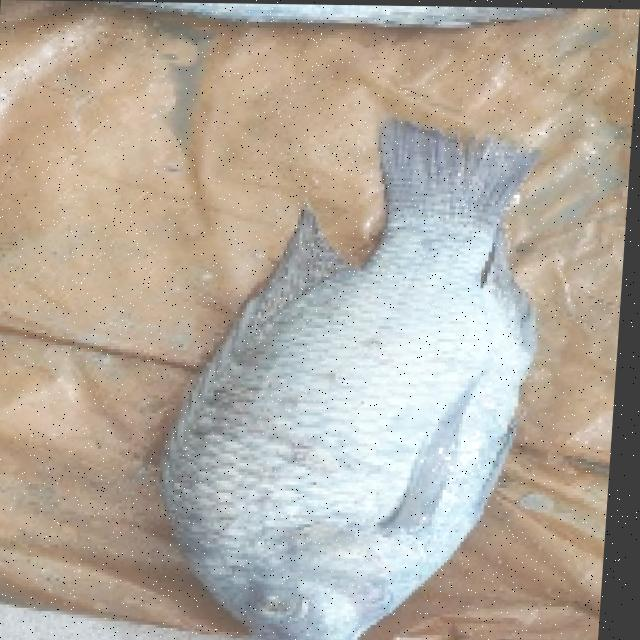Non-Fresh: (150, 208, 557, 640)
